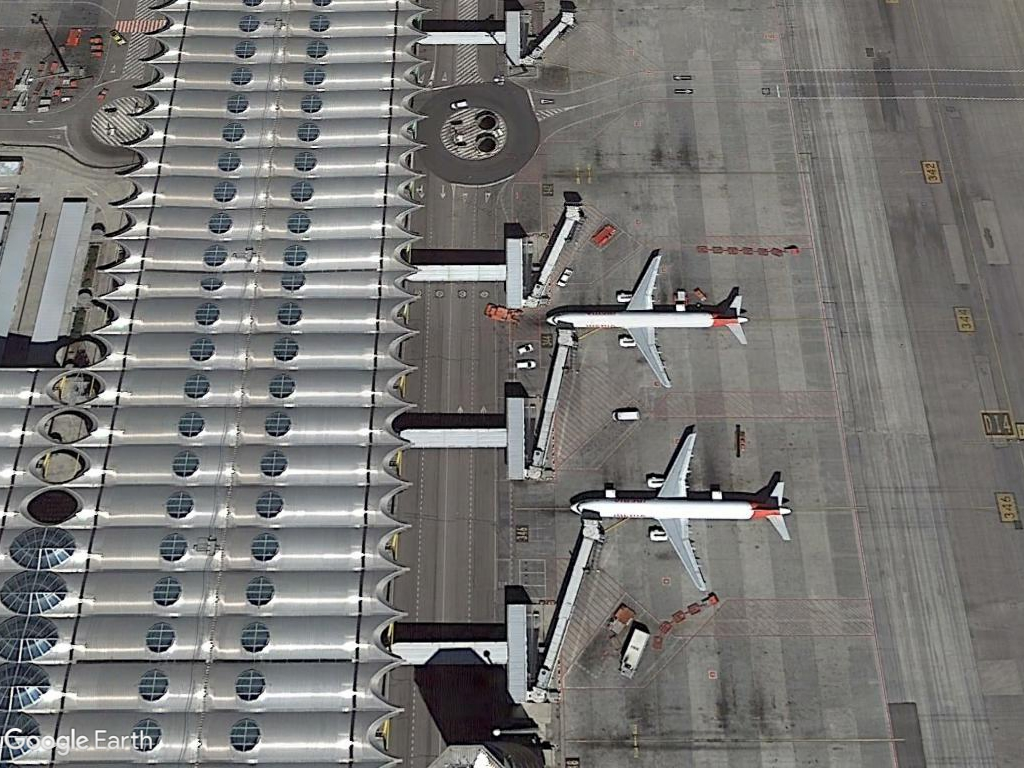airliner: (571, 432, 795, 592), (542, 249, 751, 393)
van: (608, 408, 645, 422)
